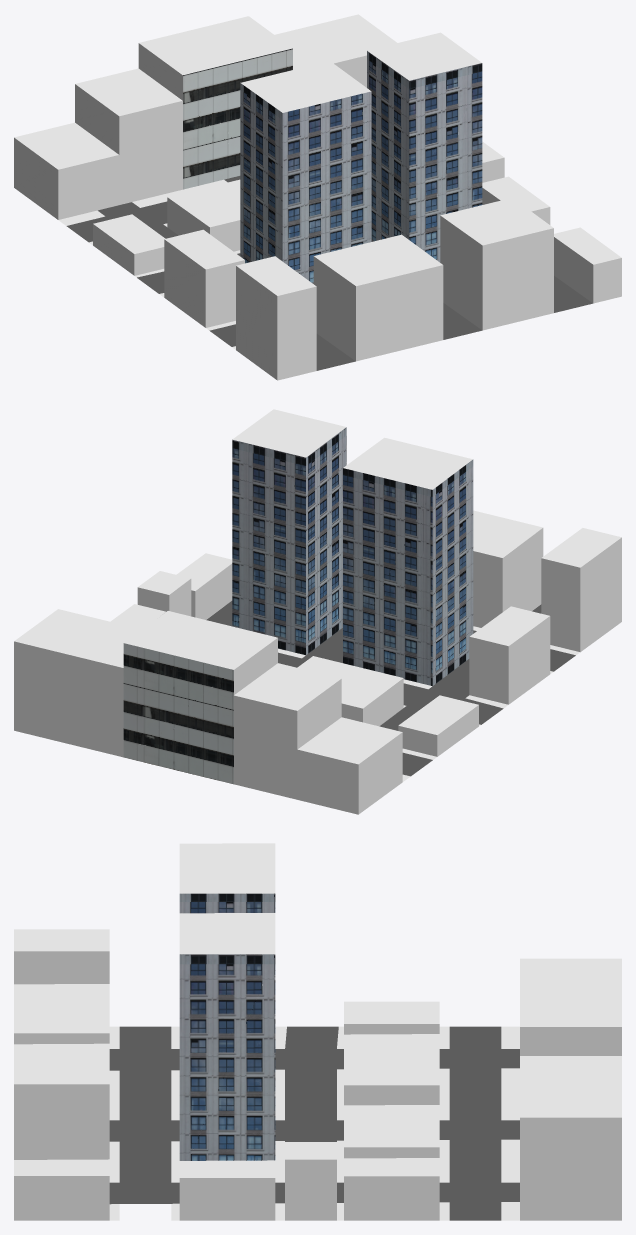
Rendered from City.fbx.
3 renders of one model, top to bottom at view 1: azimuth 30°, elevation 25°; view 2: azimuth 150°, elevation 25°; view 3: azimuth 270°, elevation 25°, orthographic. The views are drawn at different scales.
Visible parts, largest first — view 1: Model; view 2: Model; view 3: Model.
Part boxes in pixels (left/top/right/bottom): Model: left=14, top=14, right=621, bottom=380; Model: left=14, top=409, right=621, bottom=814; Model: left=14, top=843, right=621, bottom=1220.
Bounding box in the file's own units: 4978 × 2728 × 6592.
